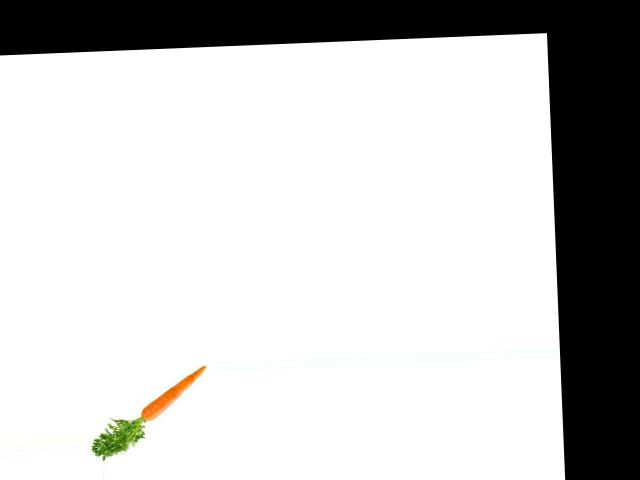carrot: (131, 363, 210, 423)
